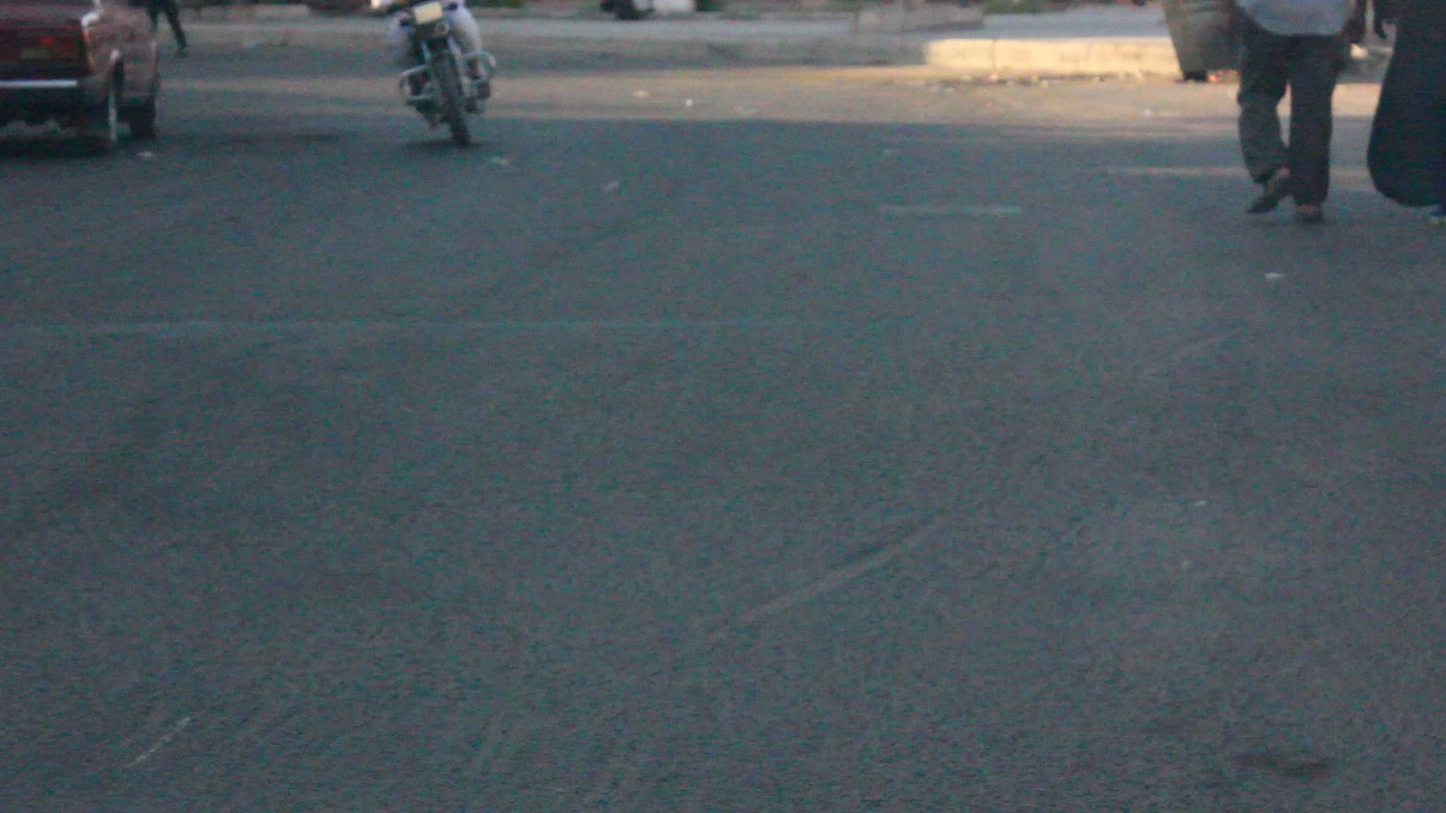Bump: (0, 322, 1446, 454)
